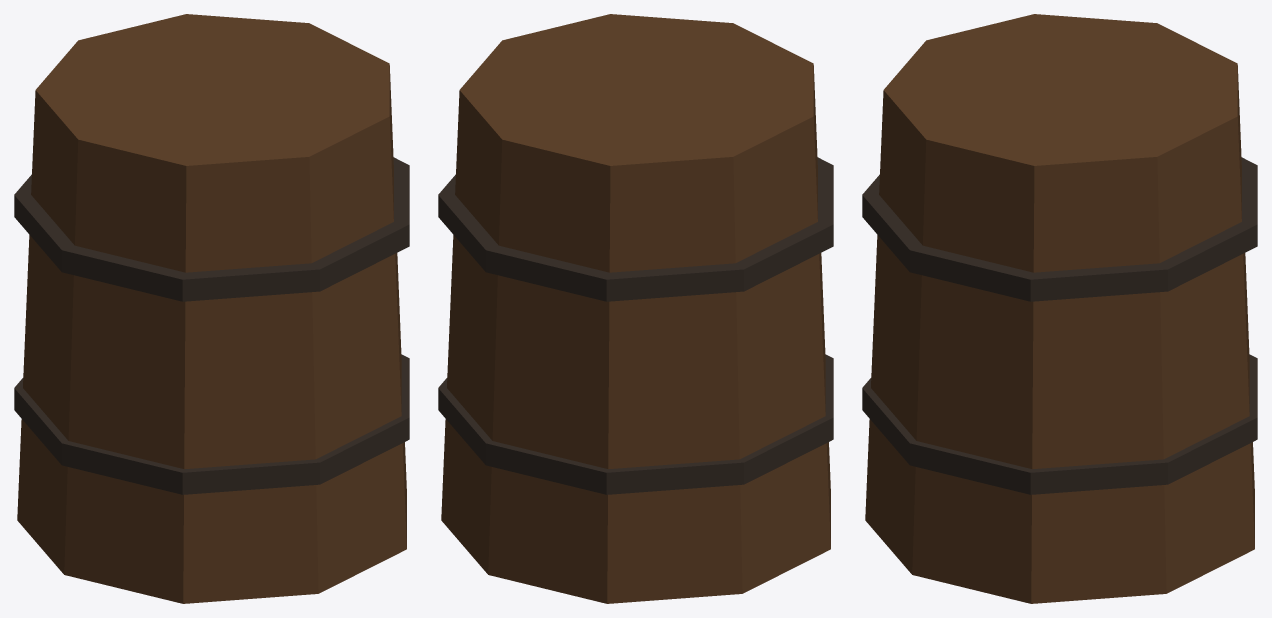
Rendered from barrel.glb.
3 renders of one model, left to right at view 1: azimuth 30°, elevation 25°; view 2: azimuth 150°, elevation 25°; view 3: azimuth 270°, elevation 25°, orthographic.
Parts seen in each view (by area): view 1: Barrel; view 2: Barrel; view 3: Barrel.
Part boxes in pixels (box(x1,y1,x2,y2)): Barrel: box(14, 14, 409, 603); Barrel: box(438, 14, 833, 603); Barrel: box(862, 14, 1257, 603).
Bounding box in the file's own units: 0.099 × 0.117 × 0.0975.
